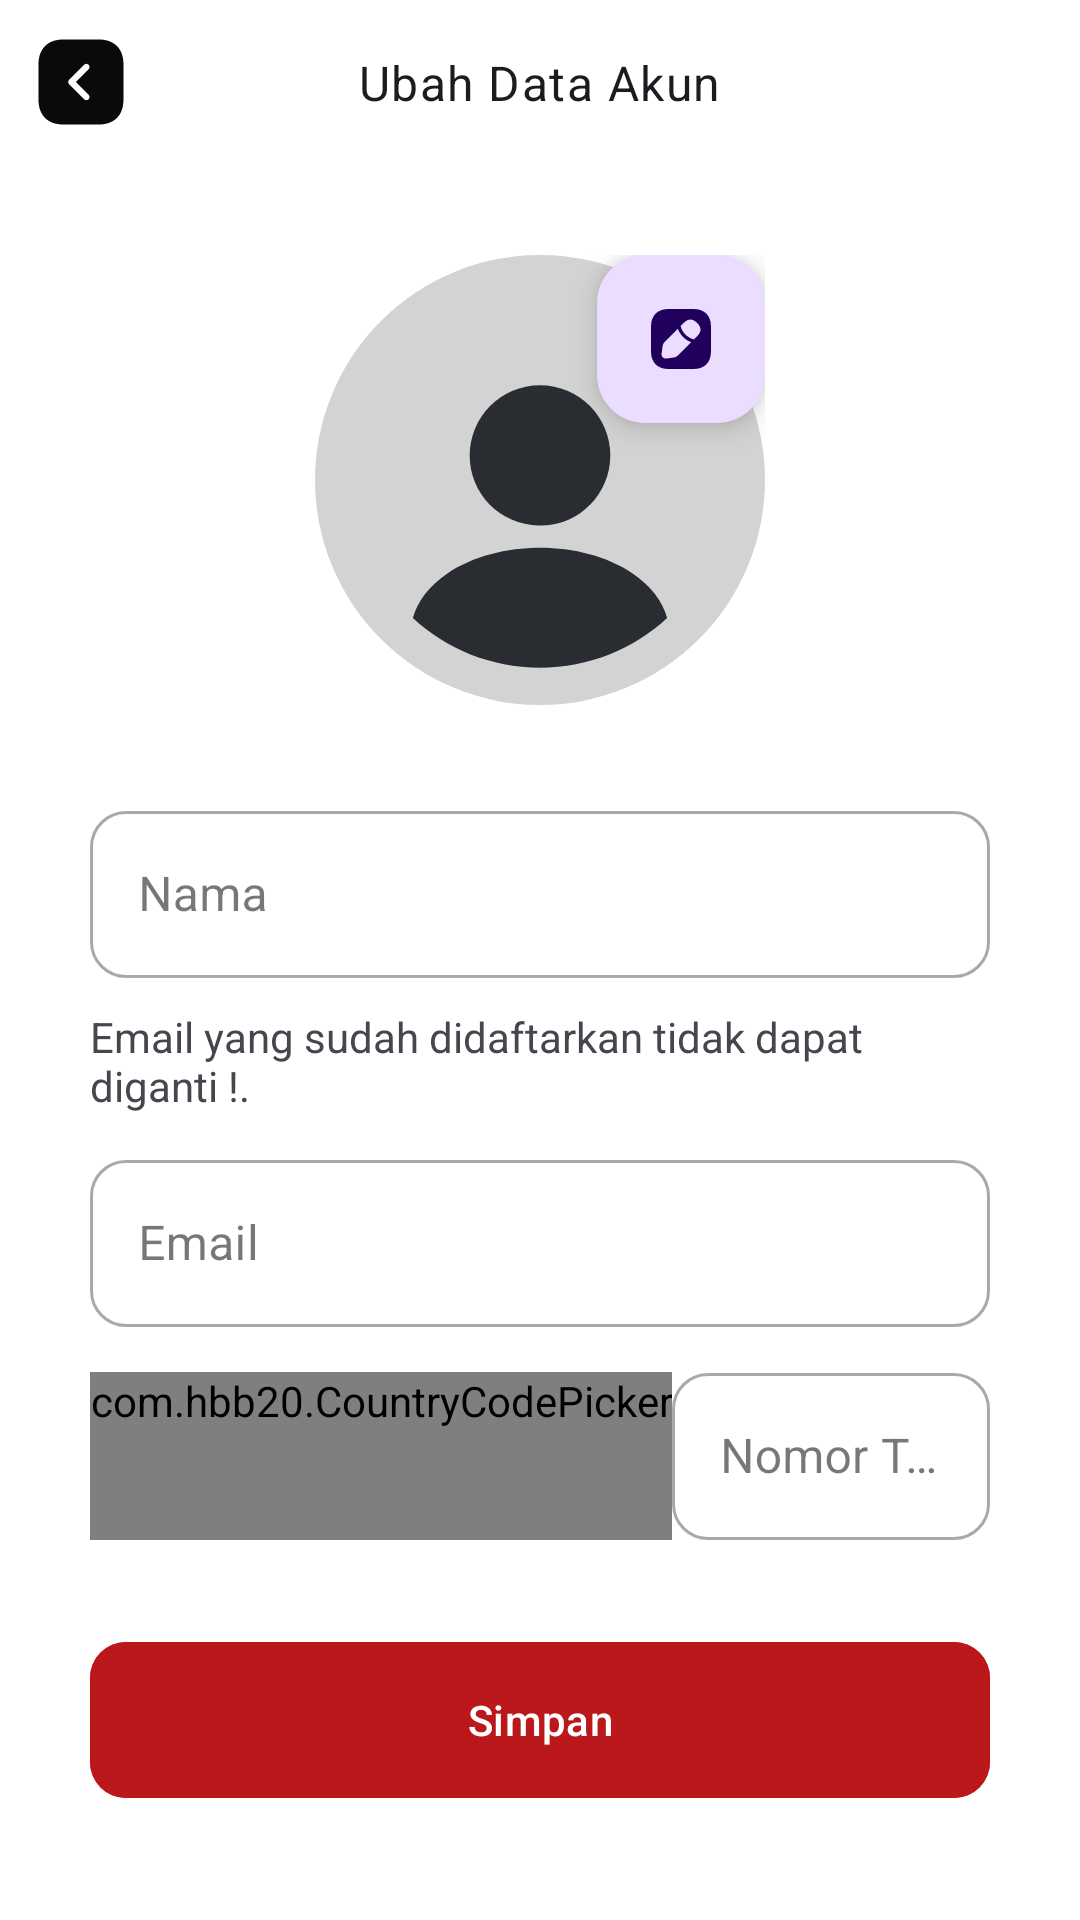

Icon click points for this 1080w x 1920h phone screenshot, format (x,y):
back: (81,82)
